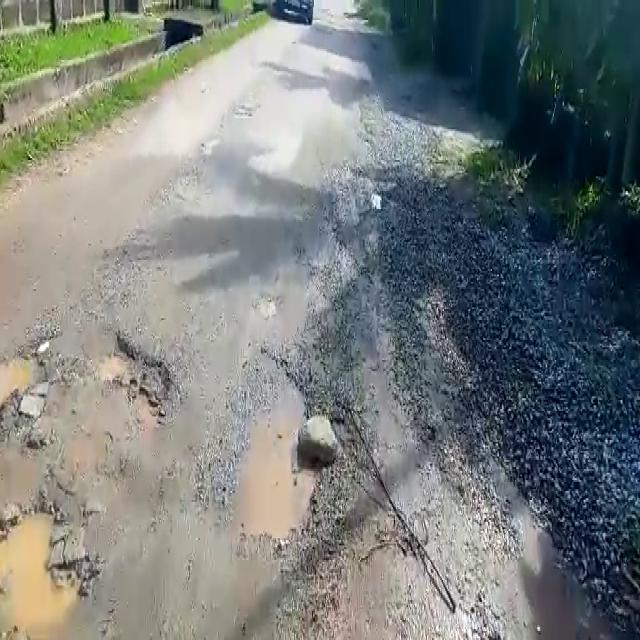Pothole: (213, 354, 319, 549), (0, 500, 96, 640), (90, 332, 178, 428), (1, 340, 45, 422)
